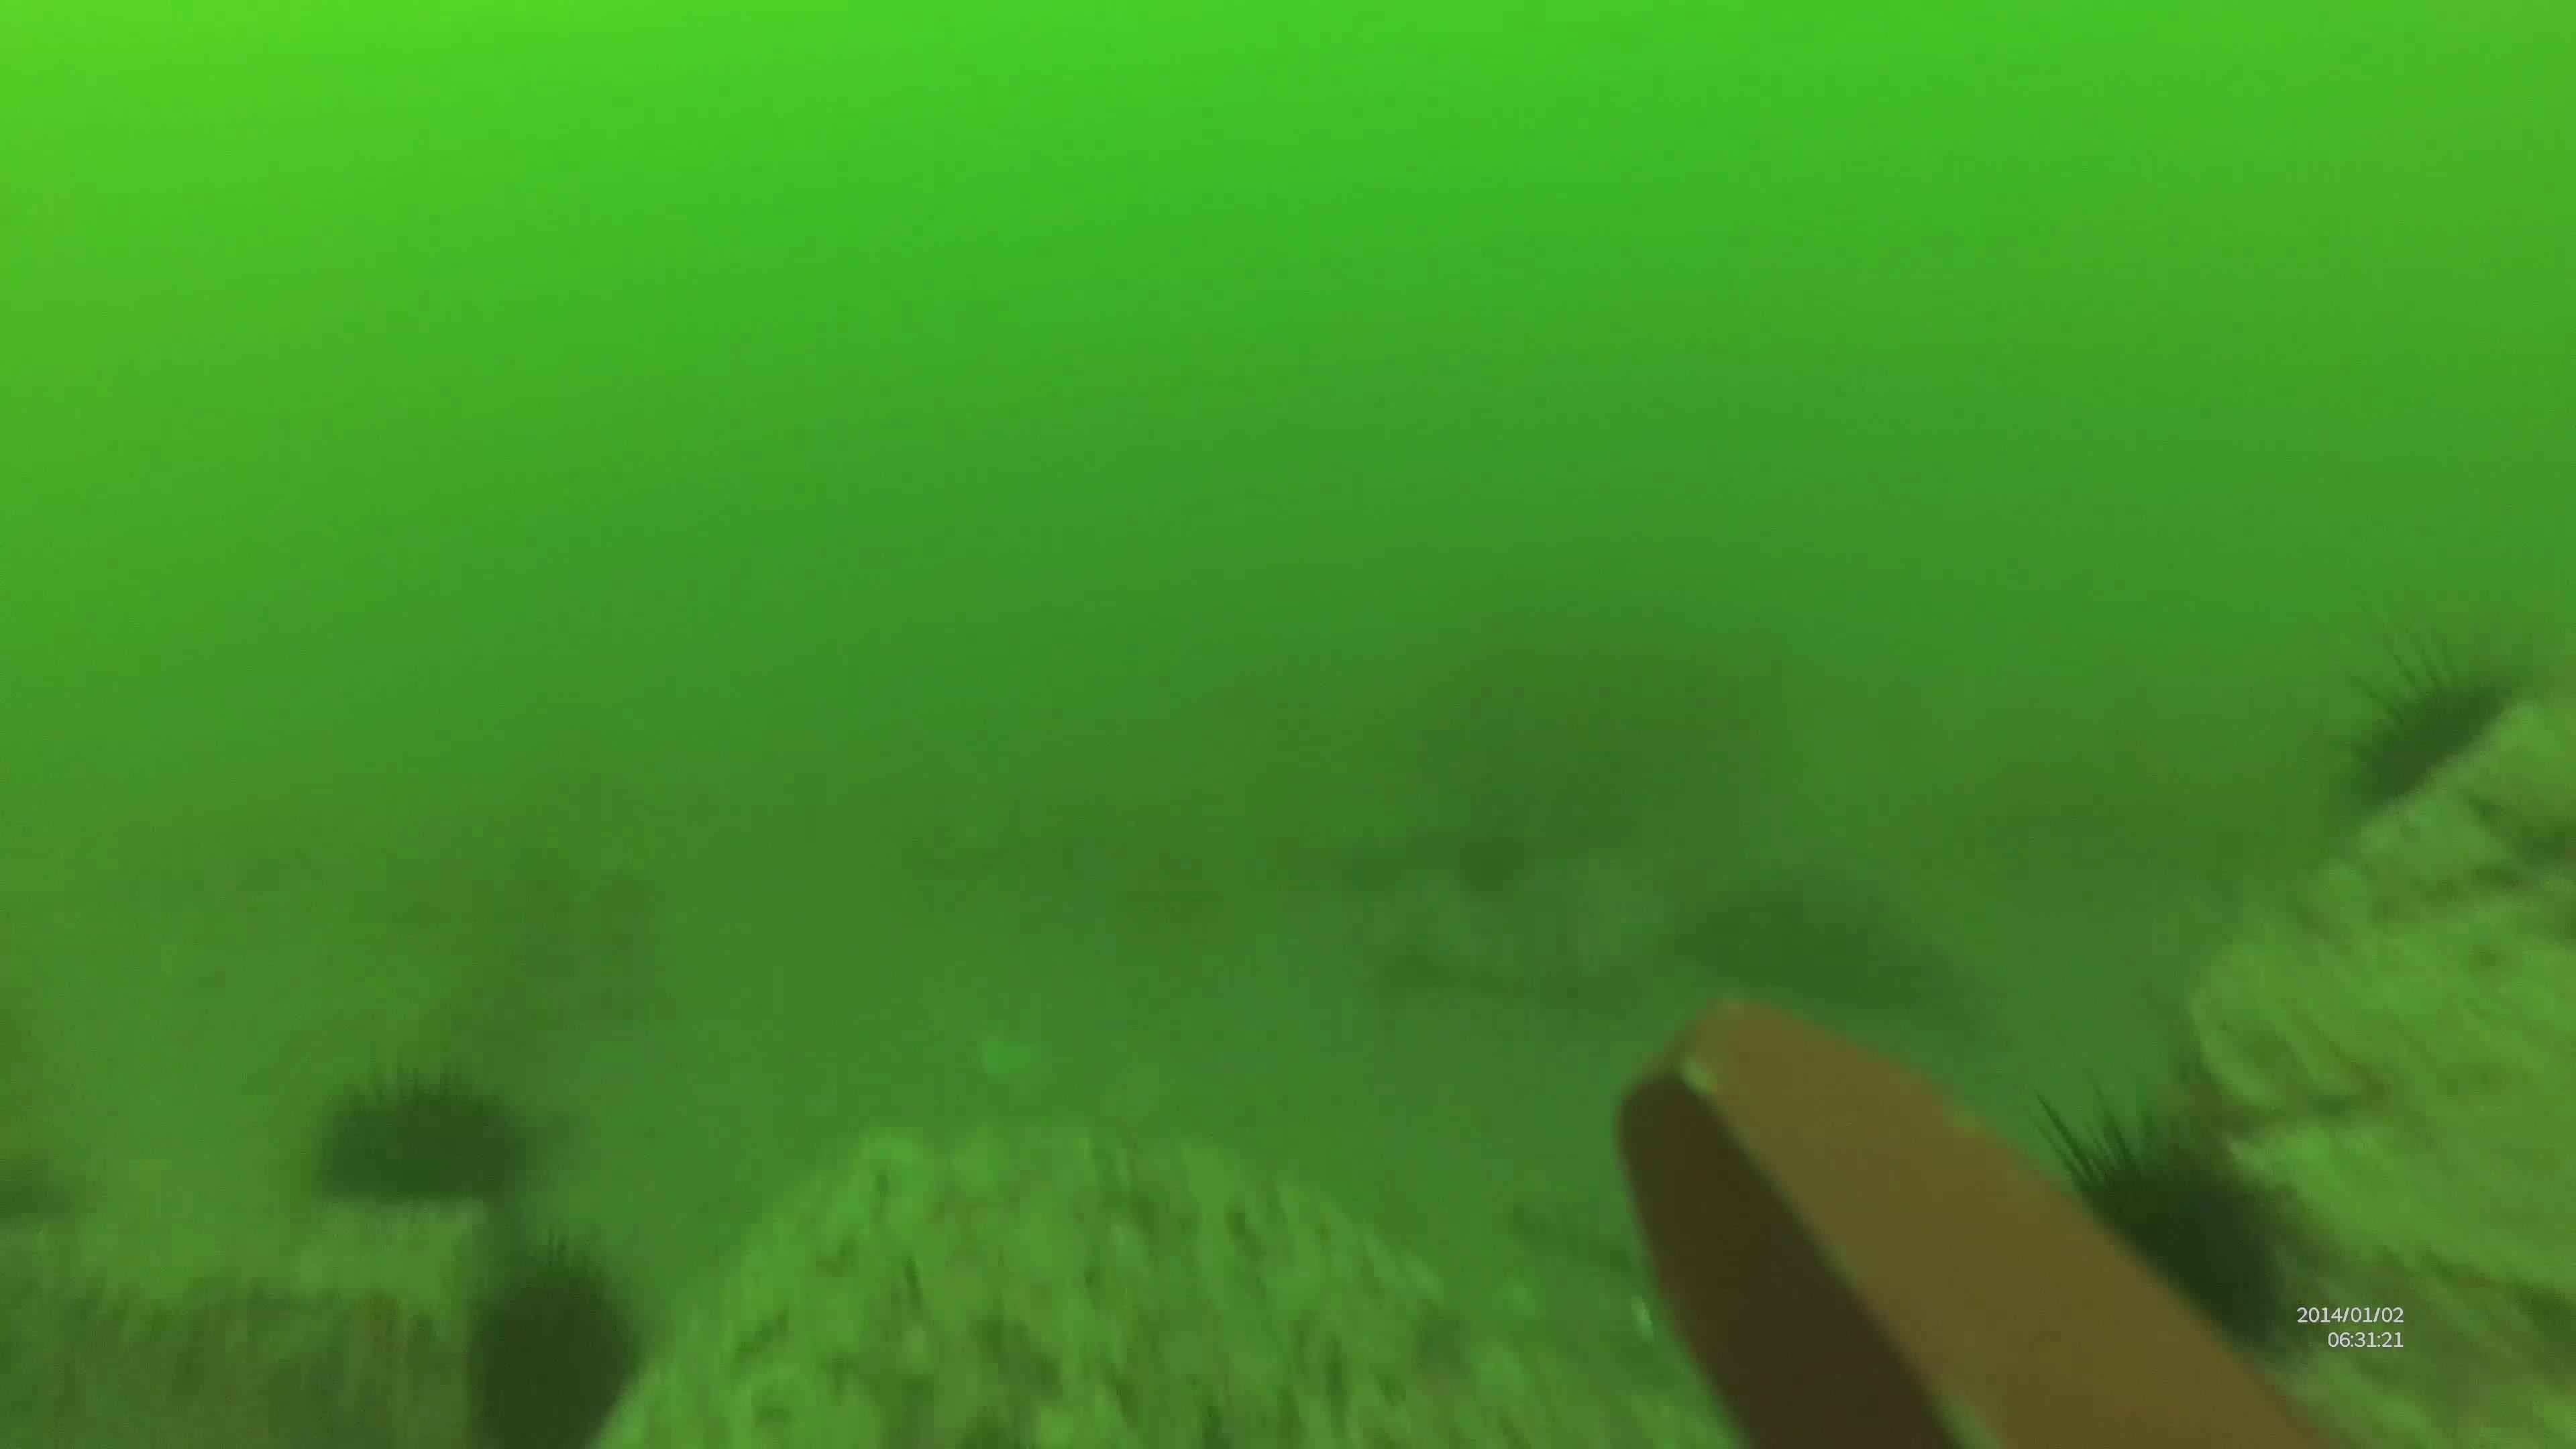echinus: (2015, 1097, 2300, 1357), (2337, 609, 2576, 816), (458, 1253, 649, 1449), (318, 1077, 524, 1215)
